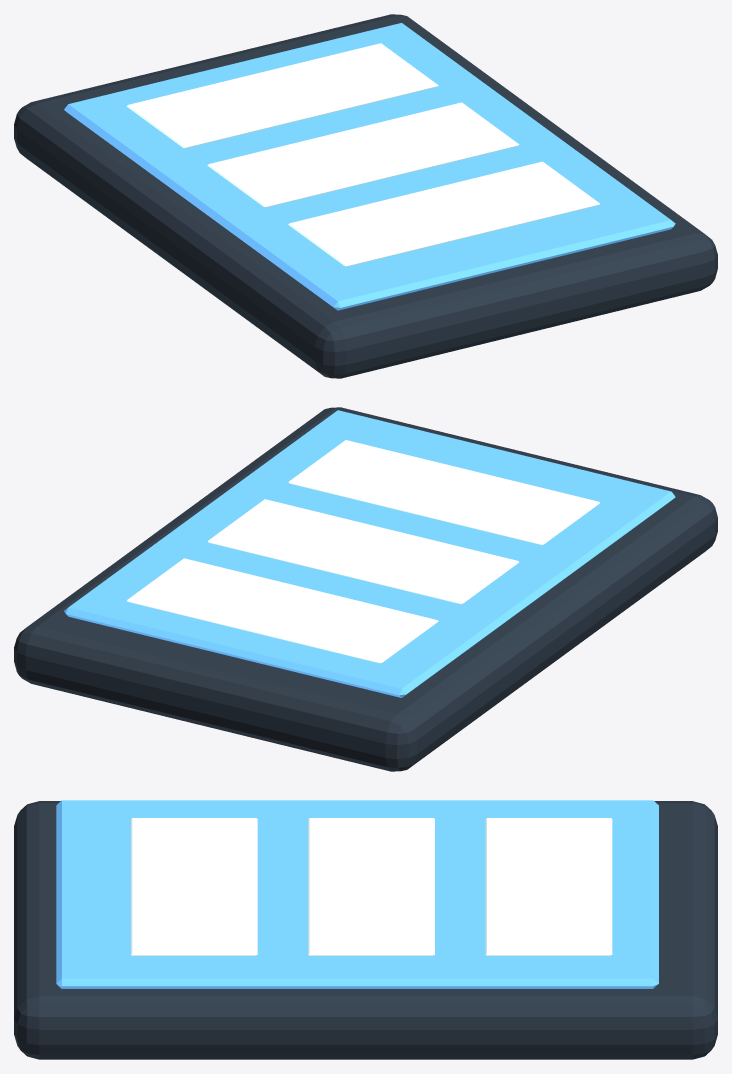
File: tablet_device.glb
3 views of the same model, one above another, from view 1: azimuth 30°, elevation 25°; view 2: azimuth 150°, elevation 25°; view 3: azimuth 270°, elevation 25° (orthographic). The views are drawn at different scales.
Visible parts, largest first — view 1: tablet_device__metal, tablet_device__code_blue, tablet_device__screen_white; view 2: tablet_device__metal, tablet_device__code_blue, tablet_device__screen_white; view 3: tablet_device__metal, tablet_device__code_blue, tablet_device__screen_white.
Boxes of the visible parts, x1=… form: tablet_device__metal: x1=14, y1=14, x2=717, y2=378; tablet_device__code_blue: x1=64, y1=23, x2=675, y2=310; tablet_device__screen_white: x1=126, y1=43, x2=599, y2=266; tablet_device__metal: x1=14, y1=407, x2=717, y2=771; tablet_device__code_blue: x1=64, y1=410, x2=675, y2=697; tablet_device__screen_white: x1=126, y1=440, x2=599, y2=663; tablet_device__metal: x1=14, y1=801, x2=717, y2=1059; tablet_device__code_blue: x1=56, y1=800, x2=658, y2=988; tablet_device__screen_white: x1=131, y1=818, x2=612, y2=955.
Size of the model in its own units: 0.18 by 0.0295 by 0.25.
